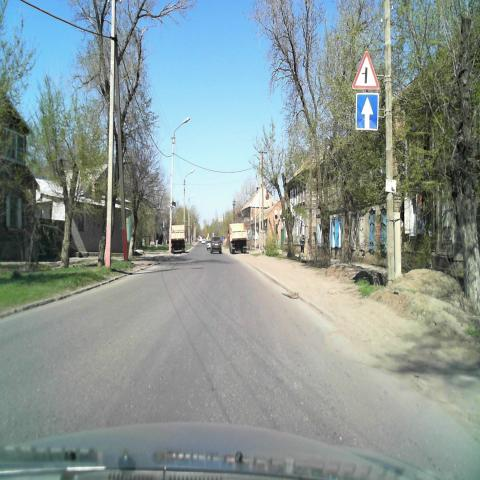5_5: (356, 92, 380, 131)
